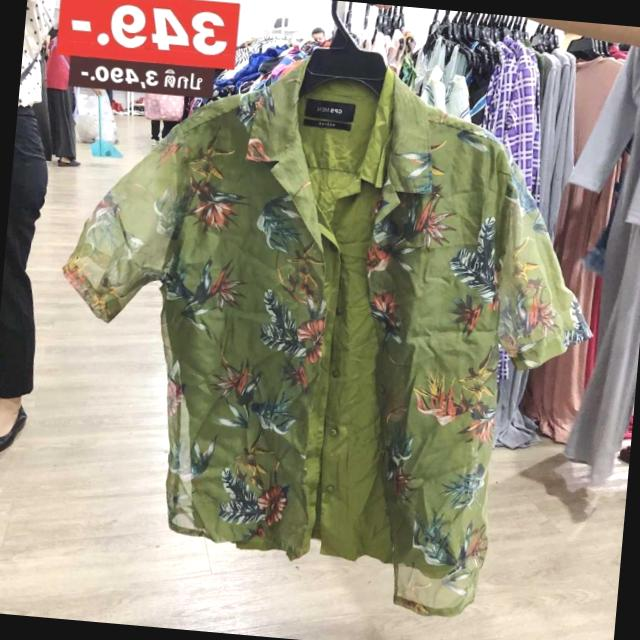shirt: (38, 46, 615, 588)
